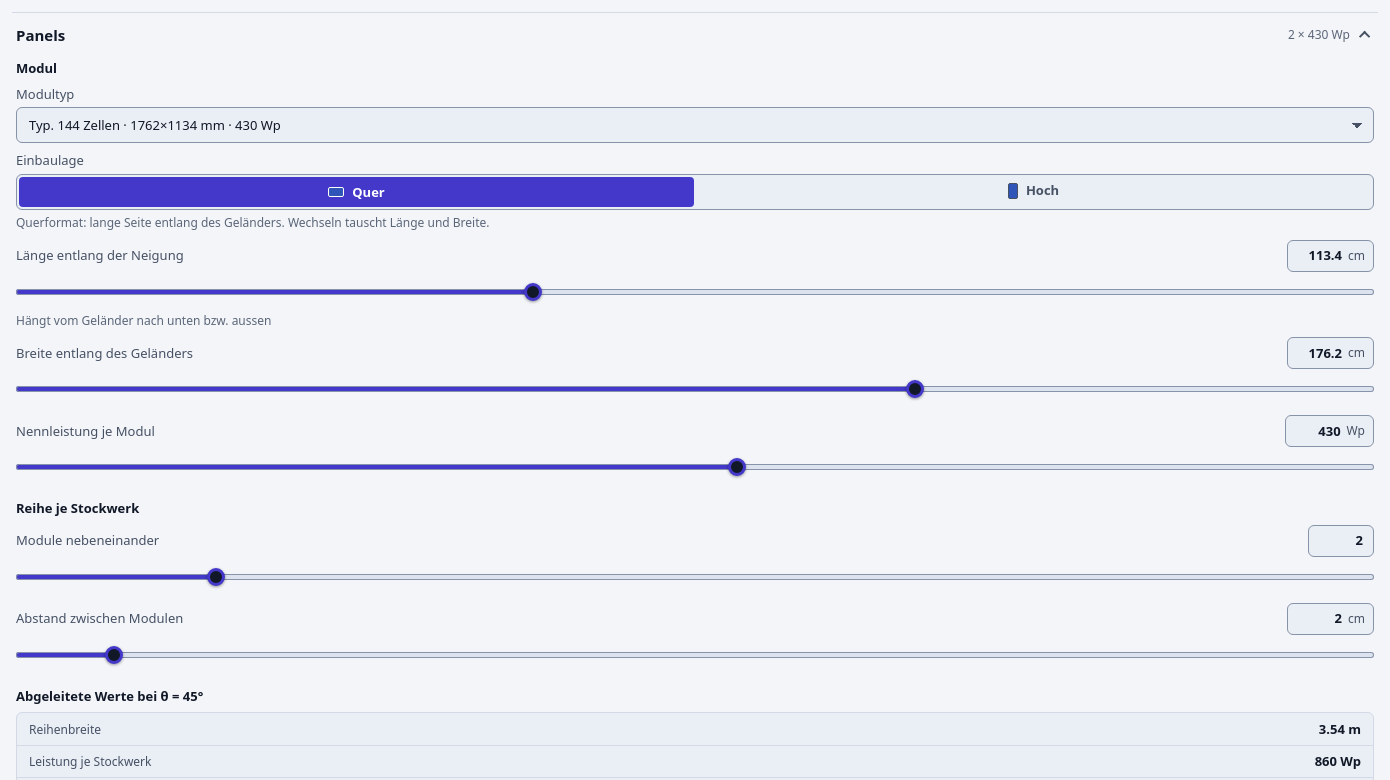
Test: PanelSection › shows the matching module preset and "Benutzerdefiniert" once the values differ
Expected: the dropdown labelled "Modultyp" shows "Typ. 144 Zellen · 1762×1134 mm · 430 Wp", [16, 107, 1374, 143]
Replace the text in the field labelled "Breite entlang des Geländers" with "170": (1320, 353) [1296, 343, 1344, 363]
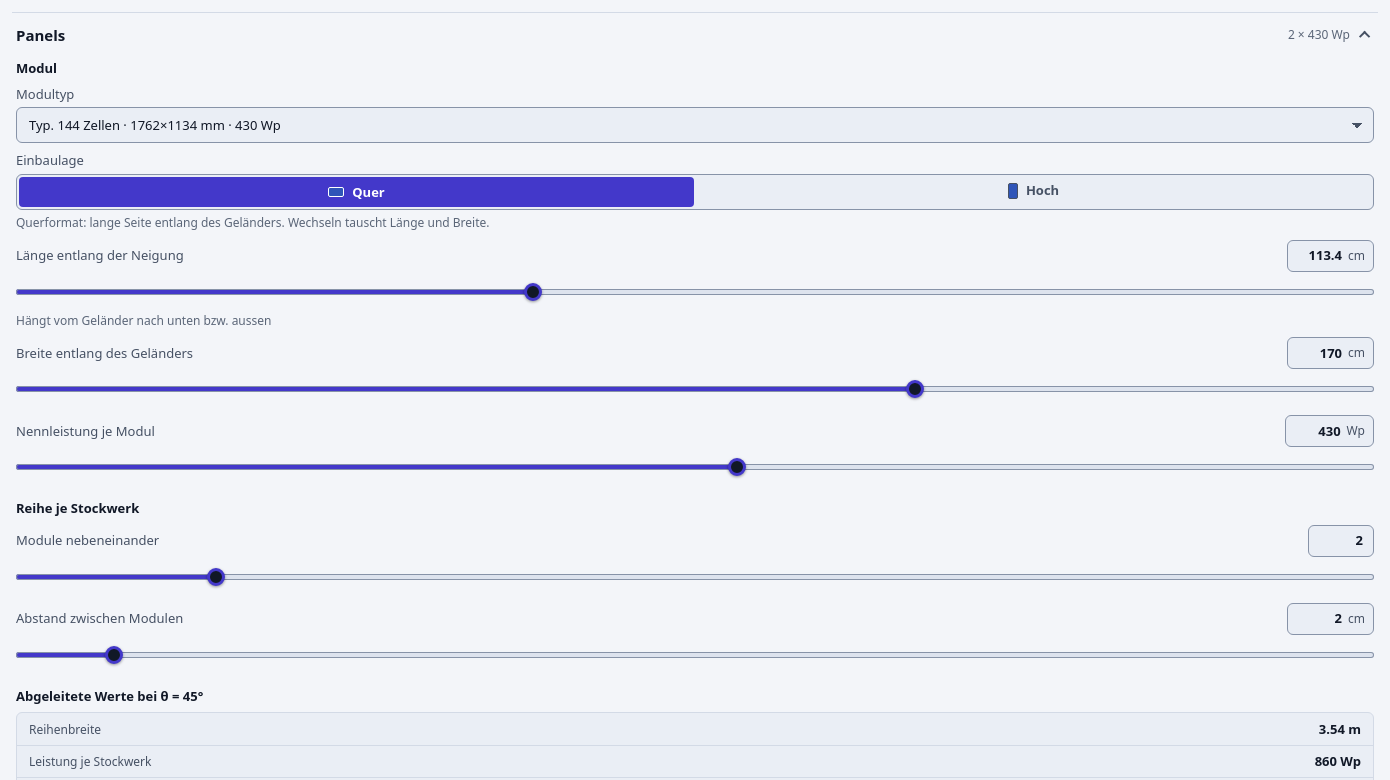
Leave the field labelled "Breite entlang des Geländers", box [1296, 343, 1344, 363]
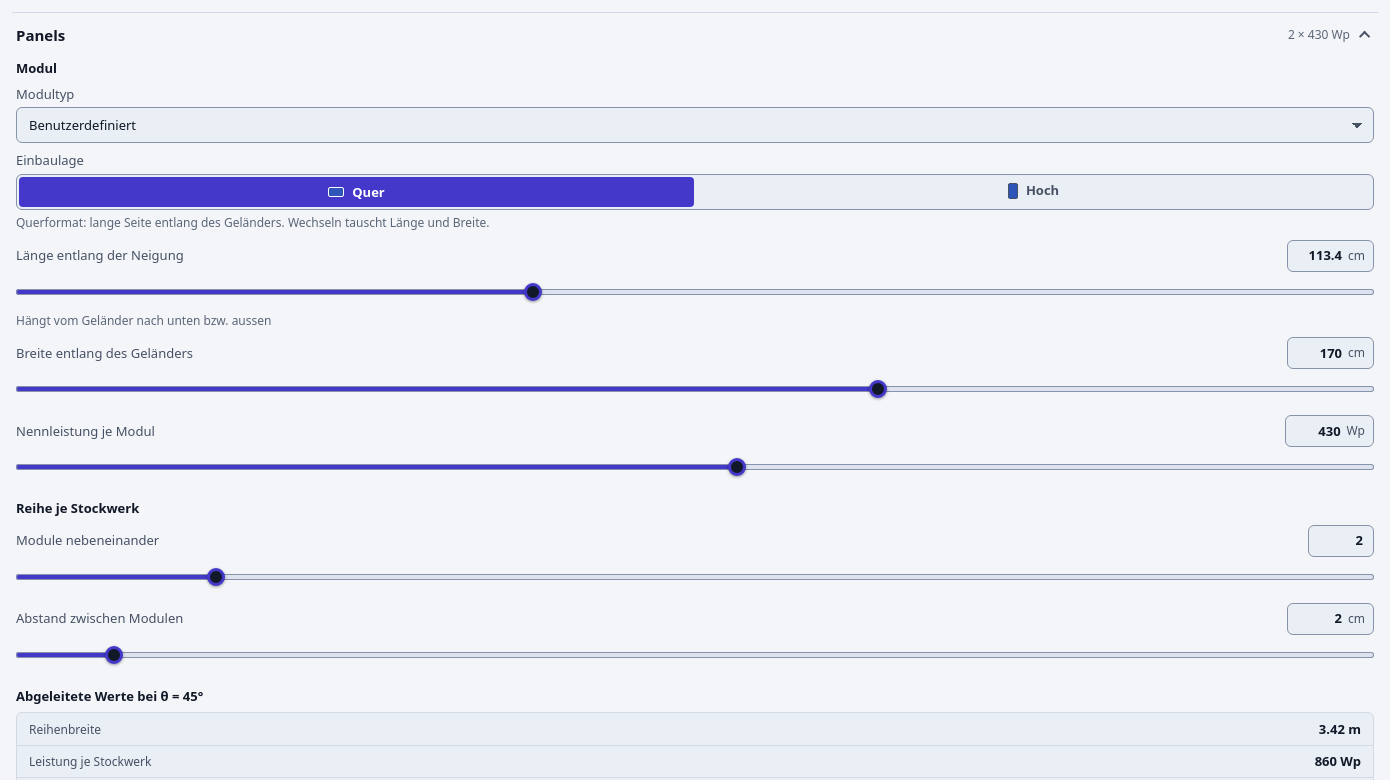
Result: the dropdown labelled "Modultyp" shows "Benutzerdefiniert" at [16, 107, 1374, 143]
